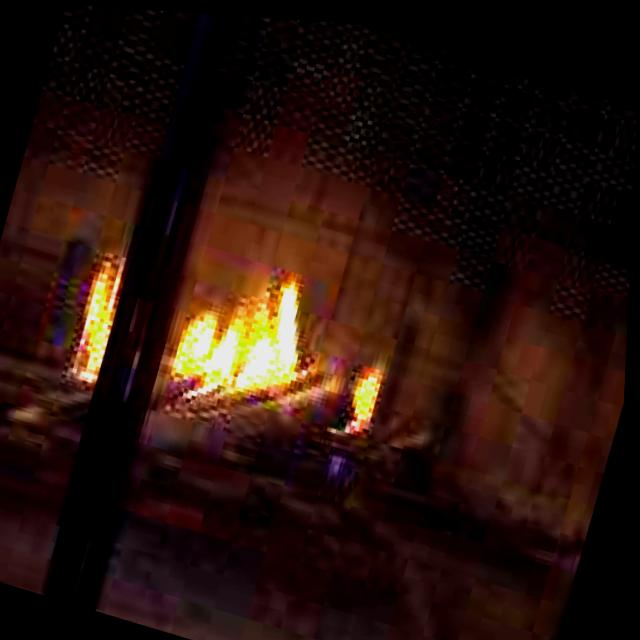fire: (51, 196, 428, 460)
